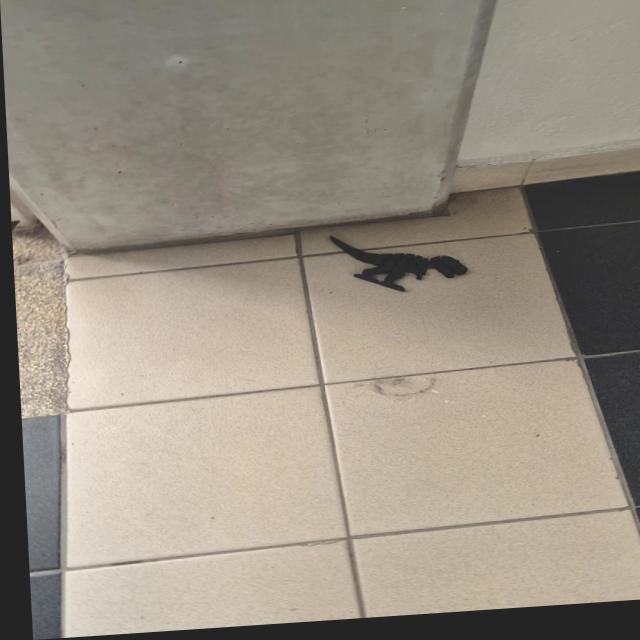dino: (328, 226, 470, 298)
